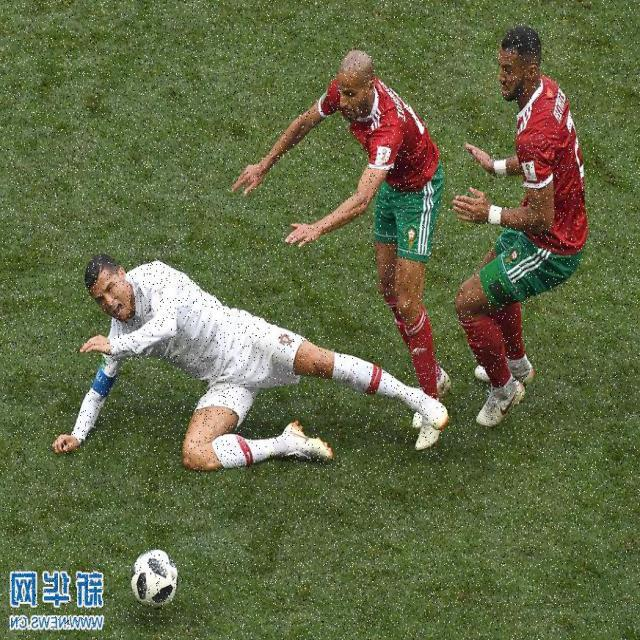fall: (58, 258, 434, 466)
